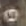limite 60: (2, 3, 20, 25)
